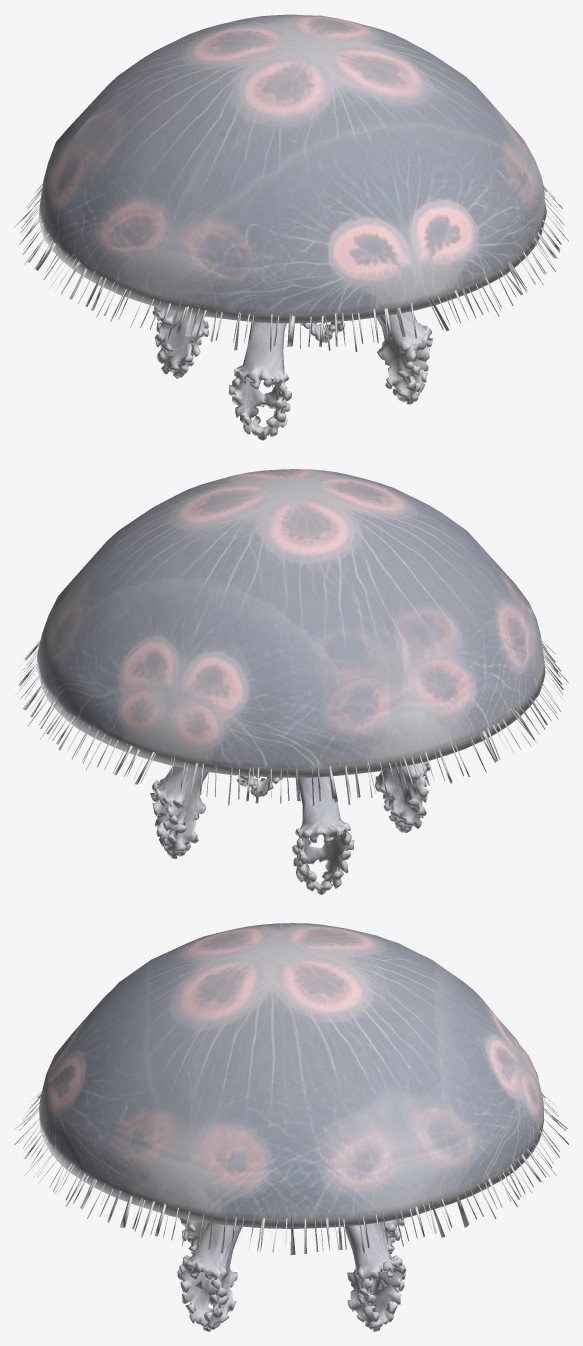
Rendered from jellyfish.glb.
The picture shows the model from 3 angles, top to bottom: view 1: azimuth 30°, elevation 25°; view 2: azimuth 150°, elevation 25°; view 3: azimuth 270°, elevation 25°; orthographic projection.
Bounding box in the file's own units: 0.9492 × 0.6543 × 0.9492.
1 material, 1 textured.
